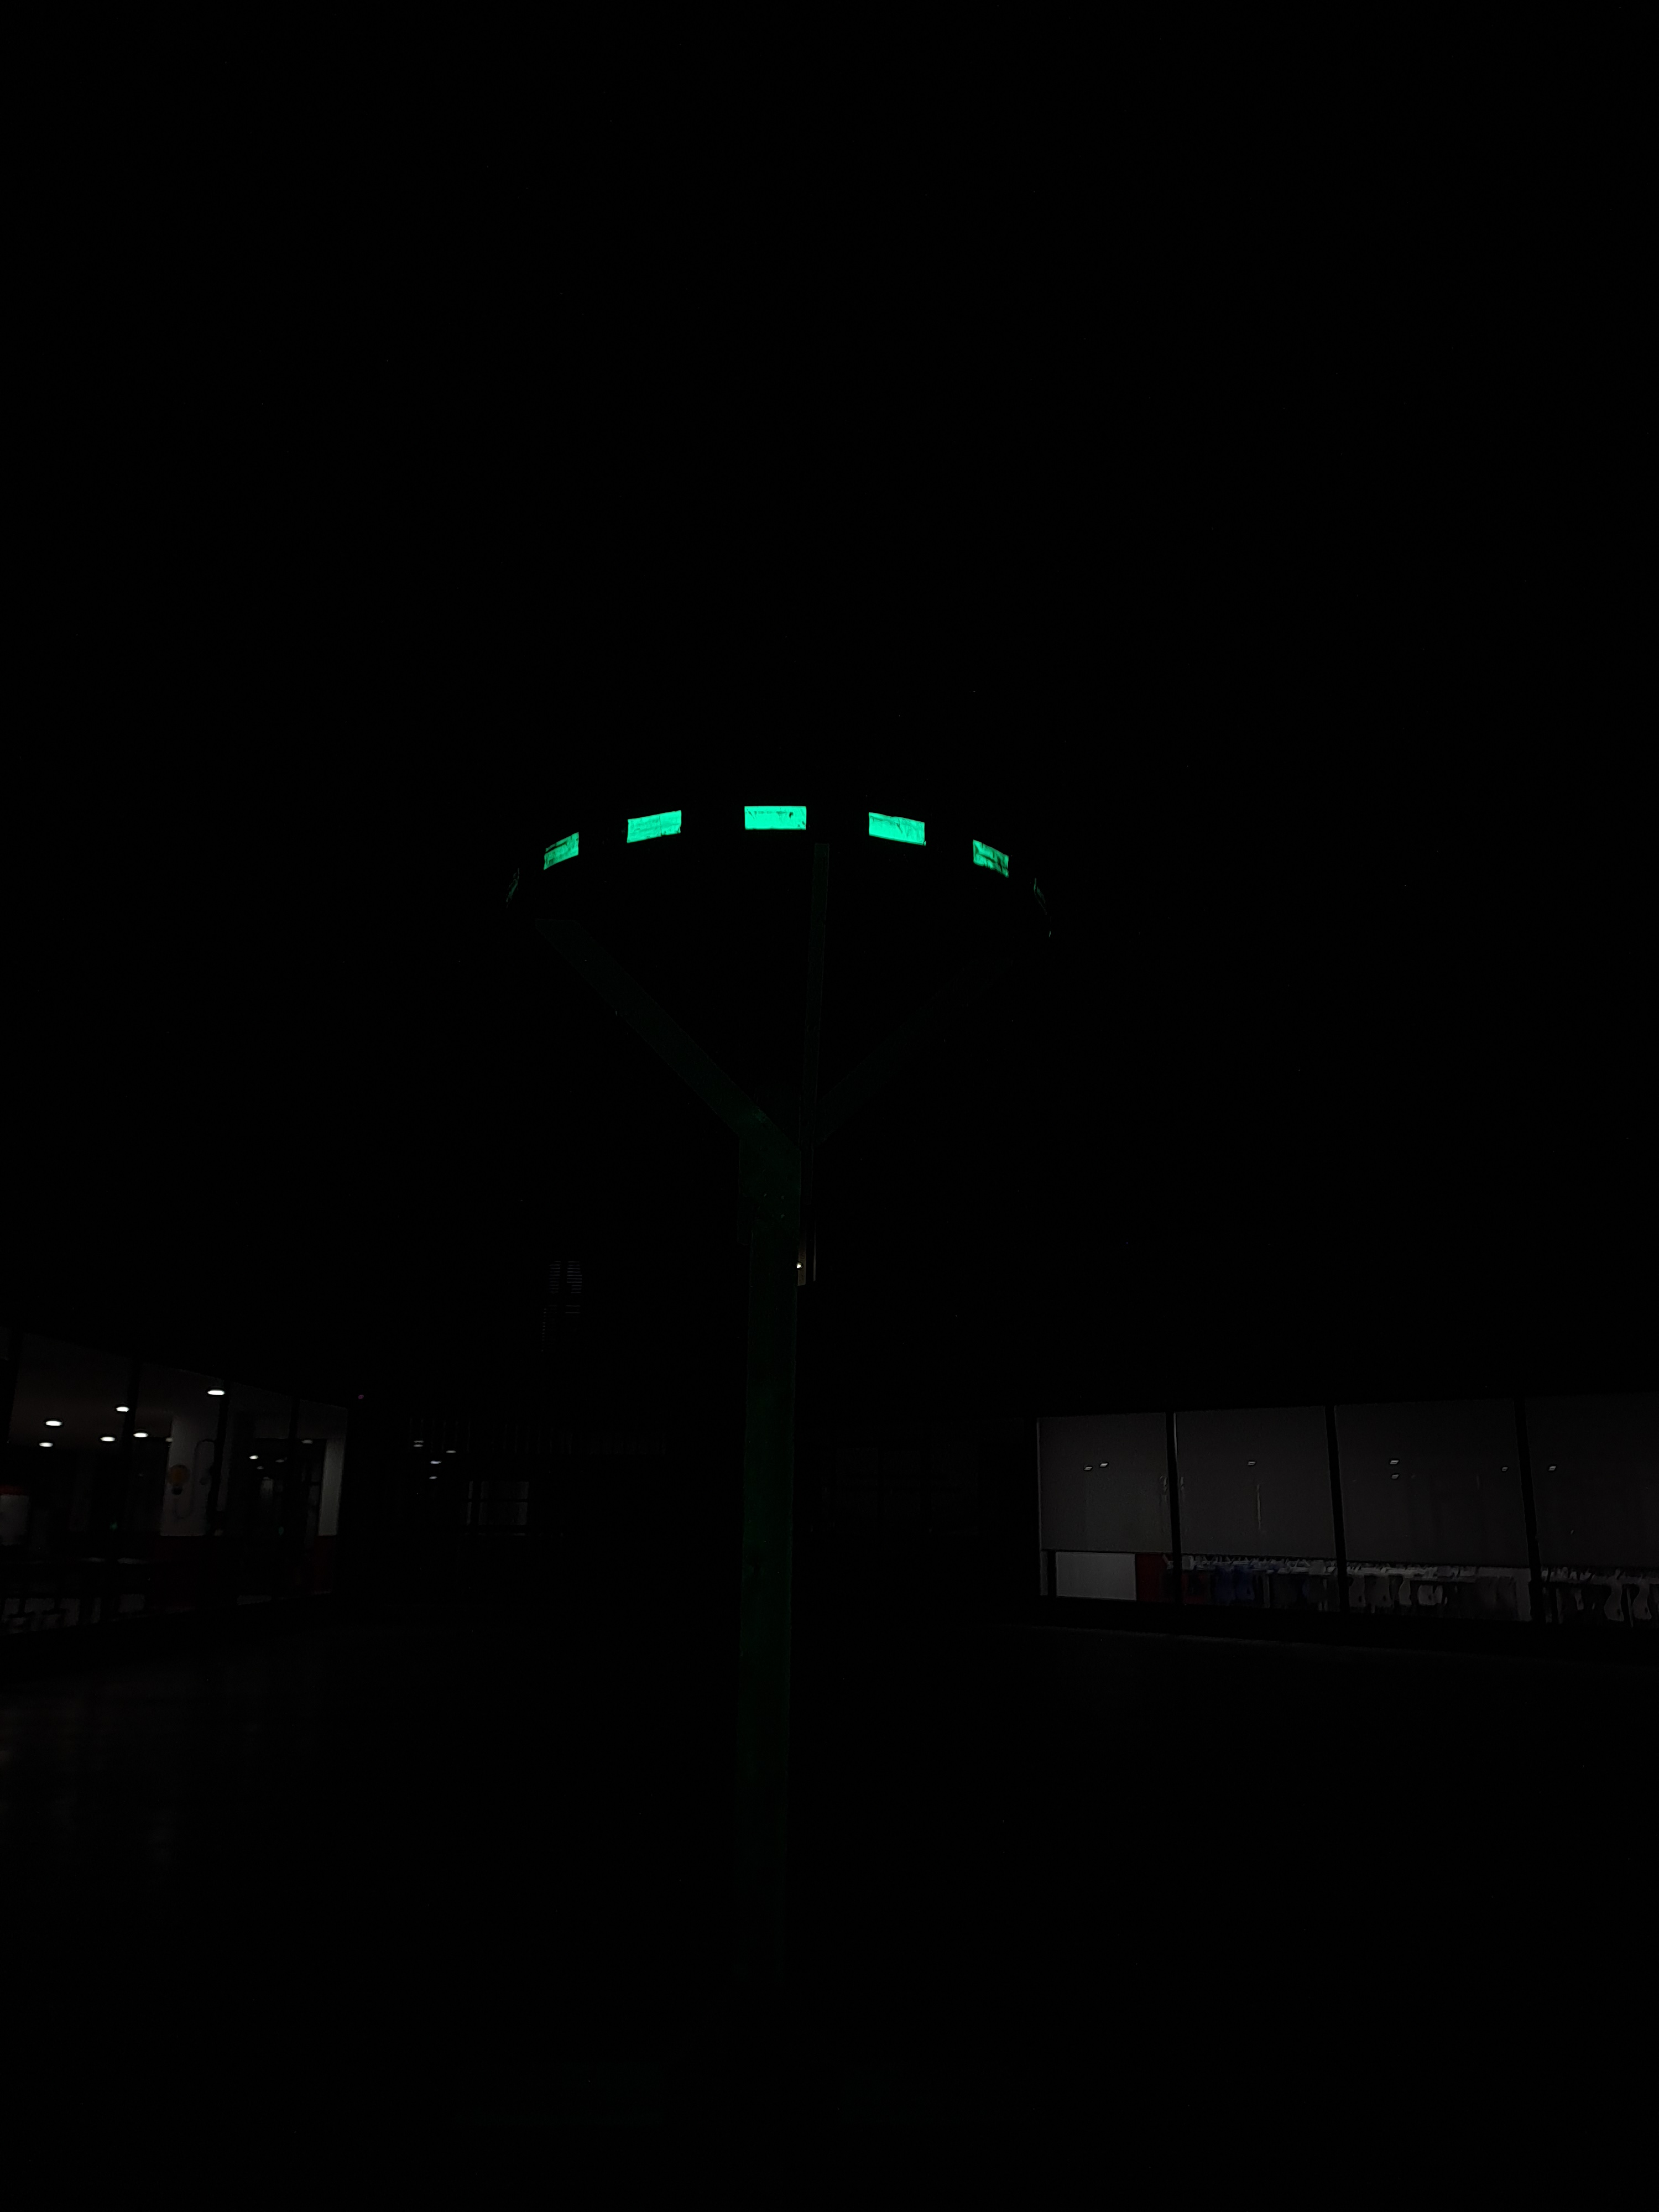hoop: (528, 796, 1014, 902)
